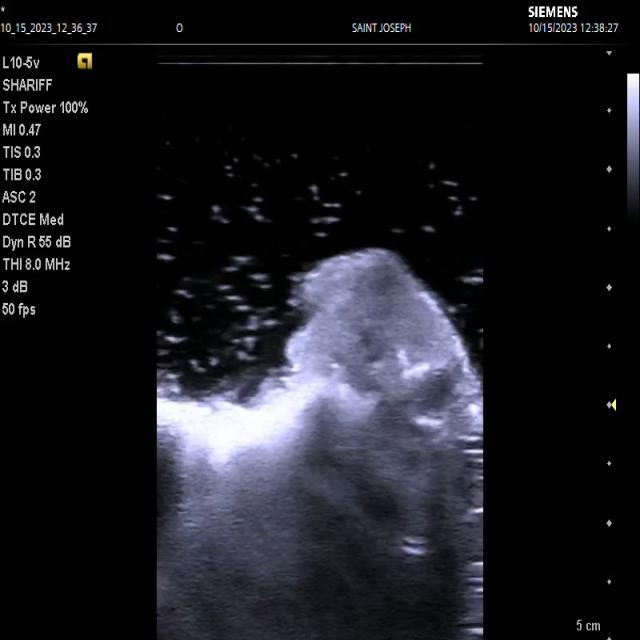tissue: (157, 249, 483, 640)
